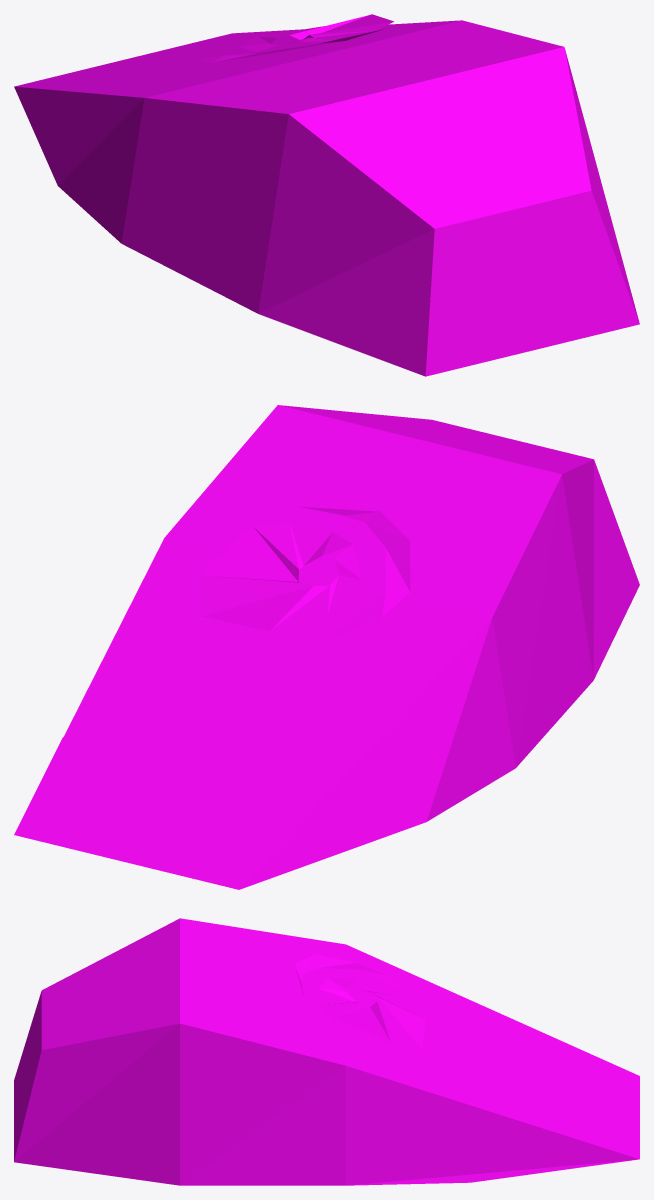
The model's file is guthixstone.obj.
The picture shows the model from 3 angles, top to bottom: view 1: azimuth 30°, elevation 25°; view 2: azimuth 150°, elevation 25°; view 3: azimuth 270°, elevation 25°; orthographic projection. The views are drawn at different scales.
Visible parts, largest first — view 1: guthixstone_back; view 2: guthixstone_back; view 3: guthixstone_back.
Boxes of the visible parts, x1,y1,x2,y2 form: guthixstone_back: (14, 14, 639, 376); guthixstone_back: (14, 405, 639, 889); guthixstone_back: (14, 918, 639, 1185).
Bounding box in the file's own units: 0.96 × 0.48 × 1.81.
